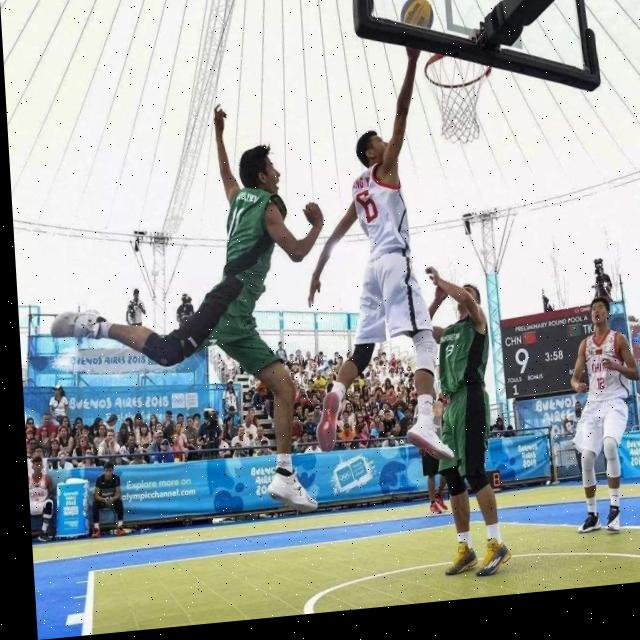basketball: (400, 0, 434, 32)
hoop: (424, 46, 497, 141)
